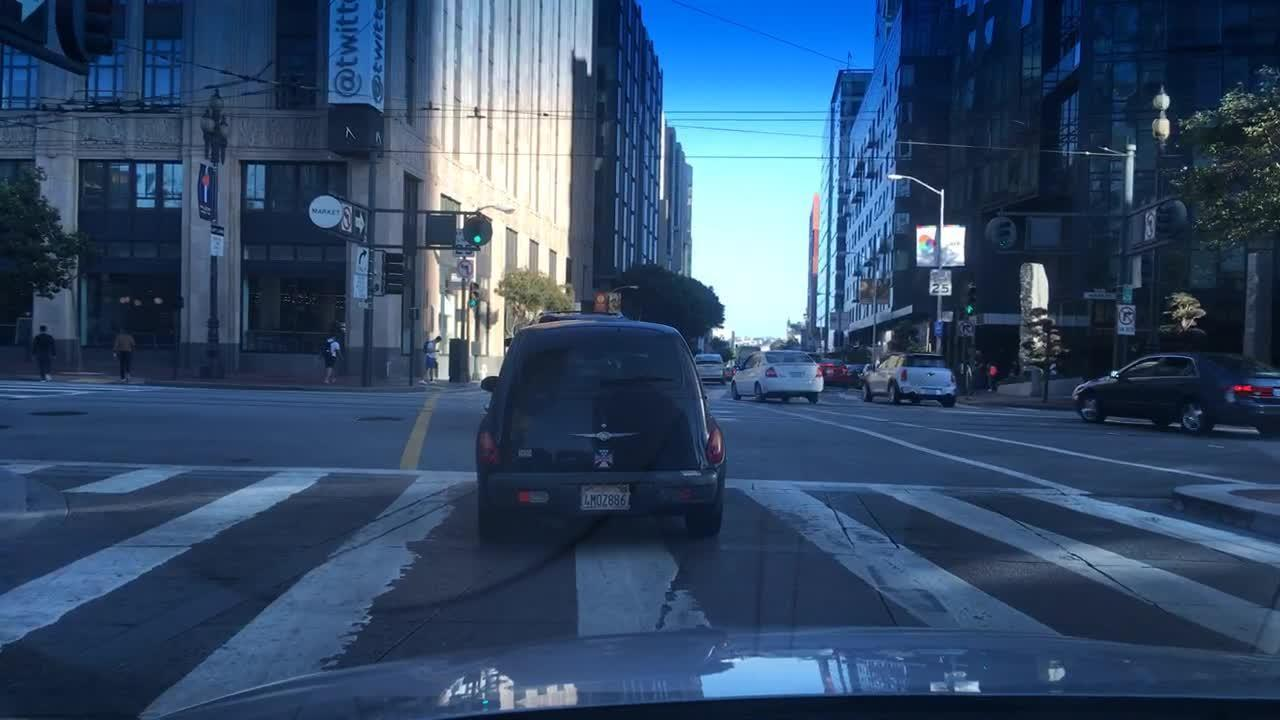Chrysler: (561, 423, 650, 445)
